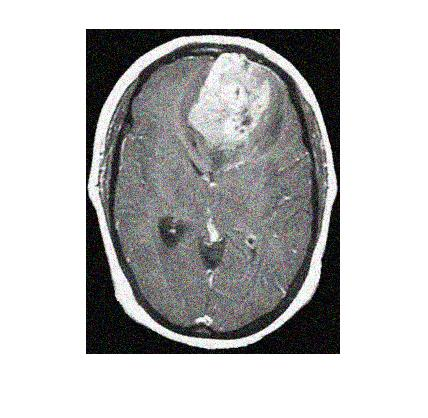Brain_Cancer: (186, 48, 274, 159)
